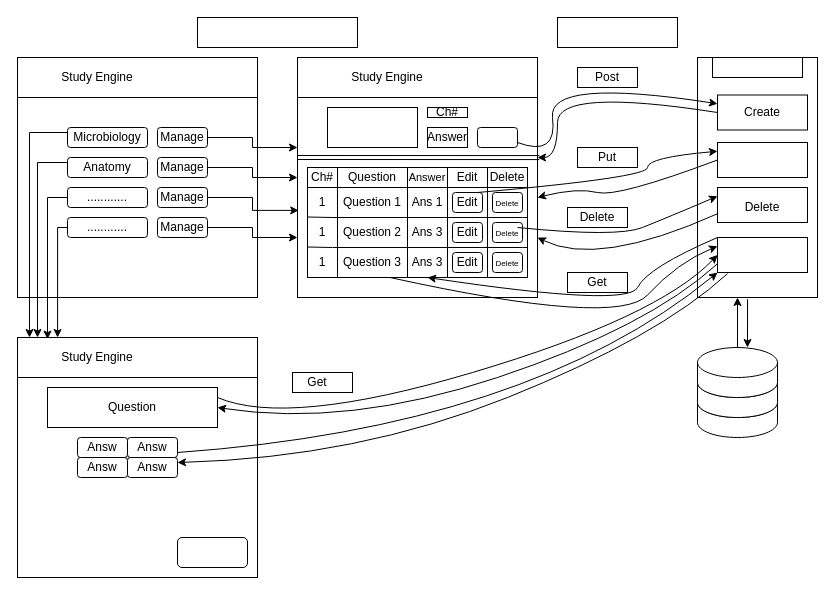
Image size: 835x595. Some labels were removed from this diagram. The centre of each missing label's shape, as x and y in pixels:
"Add" belongs at (x=497, y=137).
"Client Side" belongs at (x=277, y=32).
"Data Exchange" belongs at (x=617, y=32).
"Database" belongs at (x=737, y=372).
"New Question" belongs at (x=372, y=127).
"Read" belongs at (x=762, y=254).
"Server" belongs at (x=757, y=67).
"Submit" belongs at (x=212, y=552).
"Update" belongs at (x=762, y=160).
